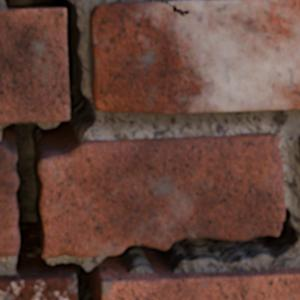brick: (90, 0, 299, 112), (0, 9, 68, 122), (100, 268, 299, 299), (0, 273, 76, 299)
broken_brick: (39, 132, 285, 258), (0, 143, 18, 257)
crack: (0, 0, 299, 299), (160, 0, 190, 16)
